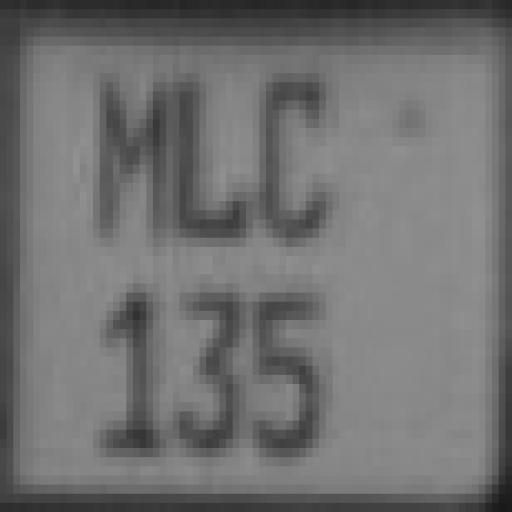1: (98, 280, 165, 465)
3: (173, 282, 241, 461)
5: (248, 290, 340, 474)
C: (252, 82, 343, 234)
L: (168, 82, 249, 248)
M: (100, 74, 164, 247)
